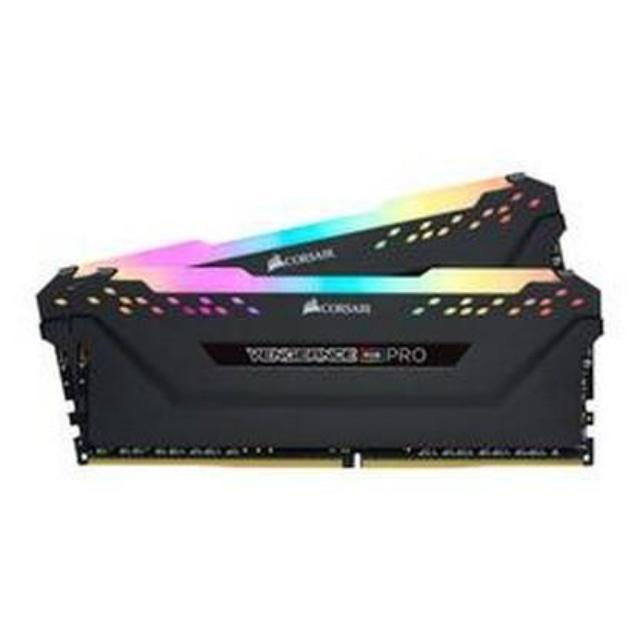RAM: (19, 153, 610, 498)
